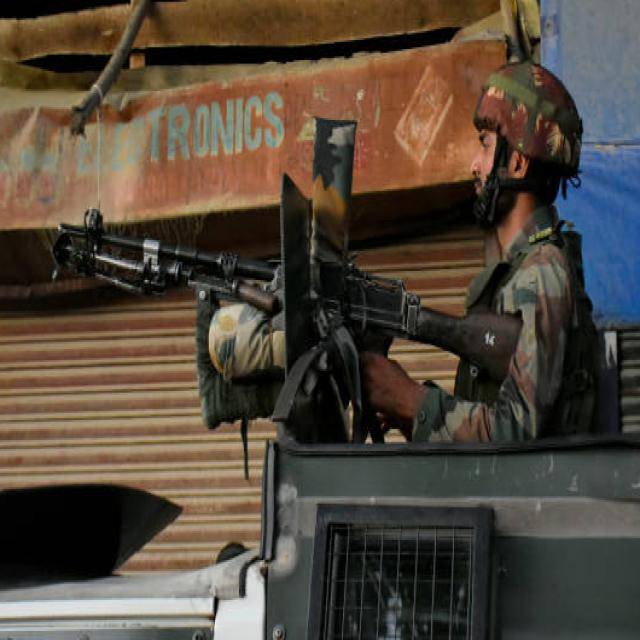soldier: (365, 62, 599, 440)
